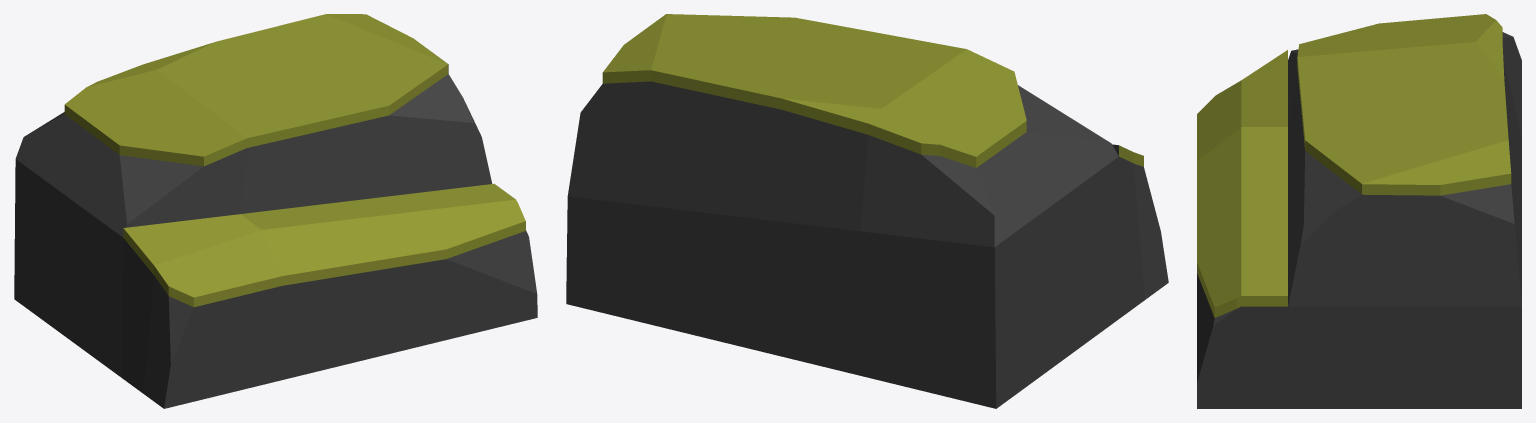
File: rock_rectangular_snow_moss_type_3_LOD0.fbx
3 views of the same model, side by side, from view 1: azimuth 30°, elevation 25°; view 2: azimuth 150°, elevation 25°; view 3: azimuth 270°, elevation 25° (orthographic). The views are drawn at different scales.
Parts seen in each view (by area): view 1: Cube.041; view 2: Cube.041; view 3: Cube.041.
Boxes of the visible parts, left/top/right/bottom form: Cube.041: left=14, top=14, right=537, bottom=408; Cube.041: left=566, top=14, right=1168, bottom=408; Cube.041: left=1197, top=14, right=1521, bottom=408.
Bounding box in the file's own units: 400 × 221 × 278.
